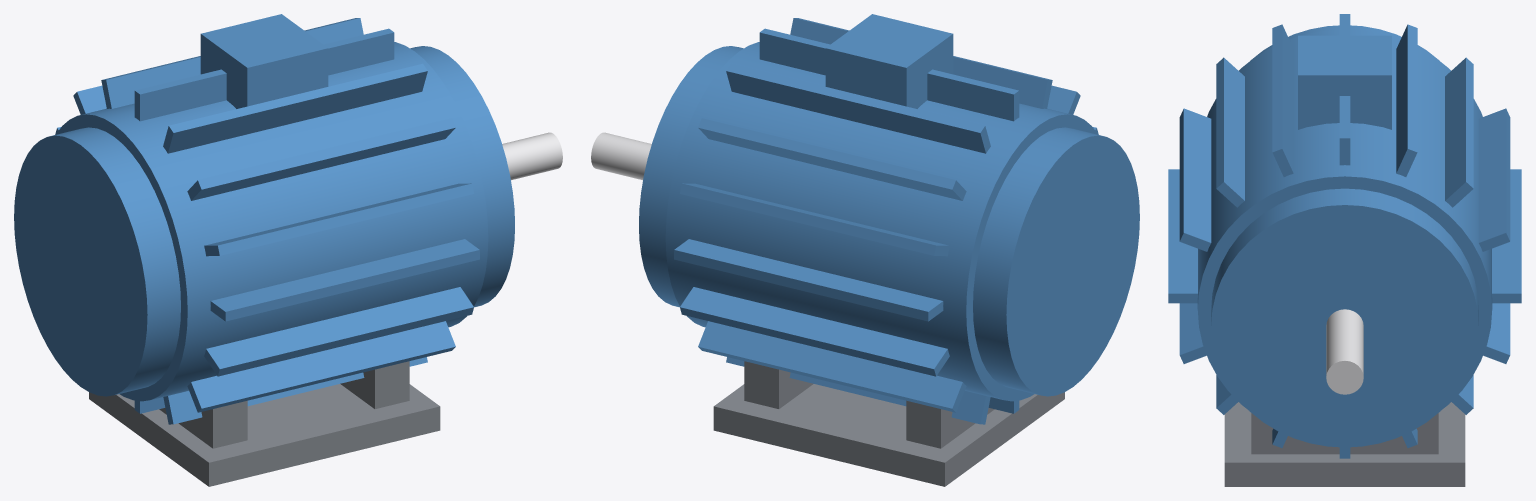
File: motor_electrico.glb
3 views of the same model, side by side, from view 1: azimuth 30°, elevation 25°; view 2: azimuth 150°, elevation 25°; view 3: azimuth 270°, elevation 25° (orthographic).
Parts seen in each view (by area): view 1: motor_electrico; view 2: motor_electrico; view 3: motor_electrico.
Part boxes in pixels (left/top/right/bottom): motor_electrico: left=14, top=14, right=562, bottom=486; motor_electrico: left=591, top=14, right=1139, bottom=486; motor_electrico: left=1168, top=14, right=1521, bottom=486.
Bounding box in the file's own units: 2.05 × 1.55 × 1.32.
